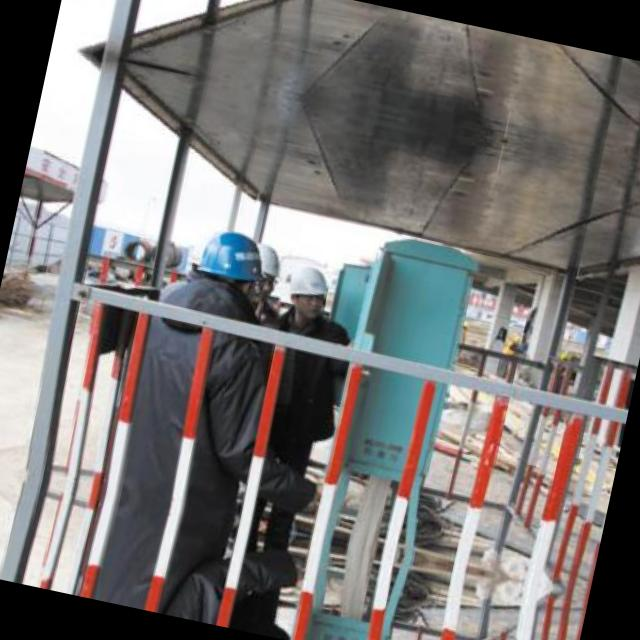helmet: (184, 212, 278, 323), (264, 250, 342, 330)
